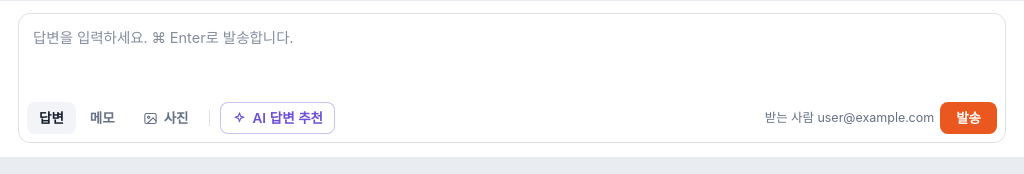
Test: ReplyComposer › photos › hides the photo button in memo mode
Step 1. Click the tab "메모" → {"x": 102, "y": 118}, box [78,102,127,134]
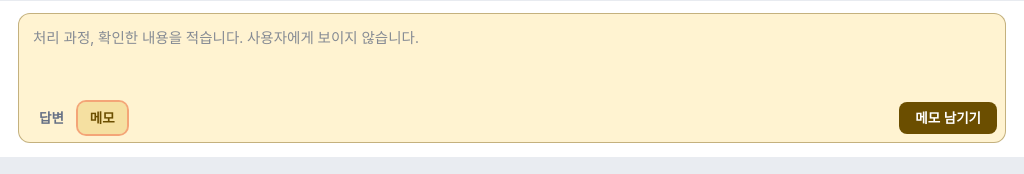
Expected: the button "사진" is gone
